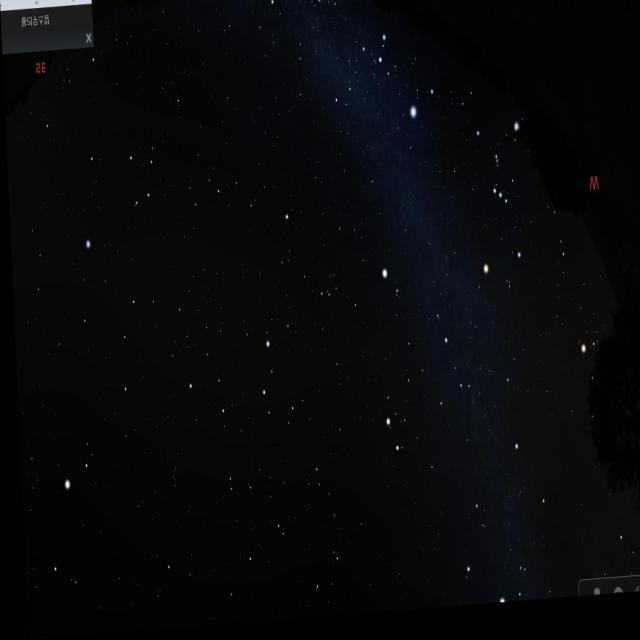bootes: (18, 469, 111, 640)
canis_major: (374, 28, 445, 125)
canis_minor: (373, 256, 406, 308)
gemini: (375, 311, 473, 471)
leo: (176, 312, 296, 451)
orion: (465, 123, 530, 300)
taurus: (572, 314, 637, 418)
